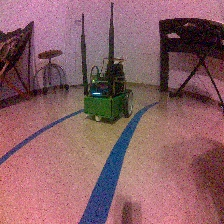rob: (83, 62, 133, 122)
